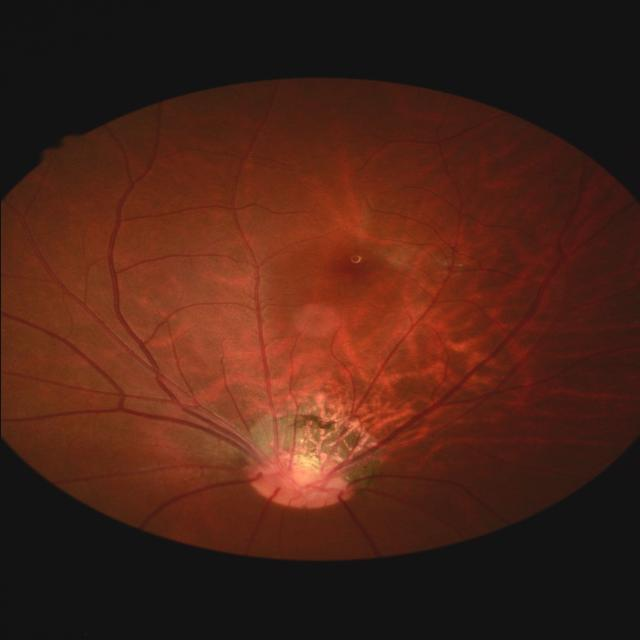cup: (262, 467, 342, 489)
disk: (248, 460, 356, 510)
